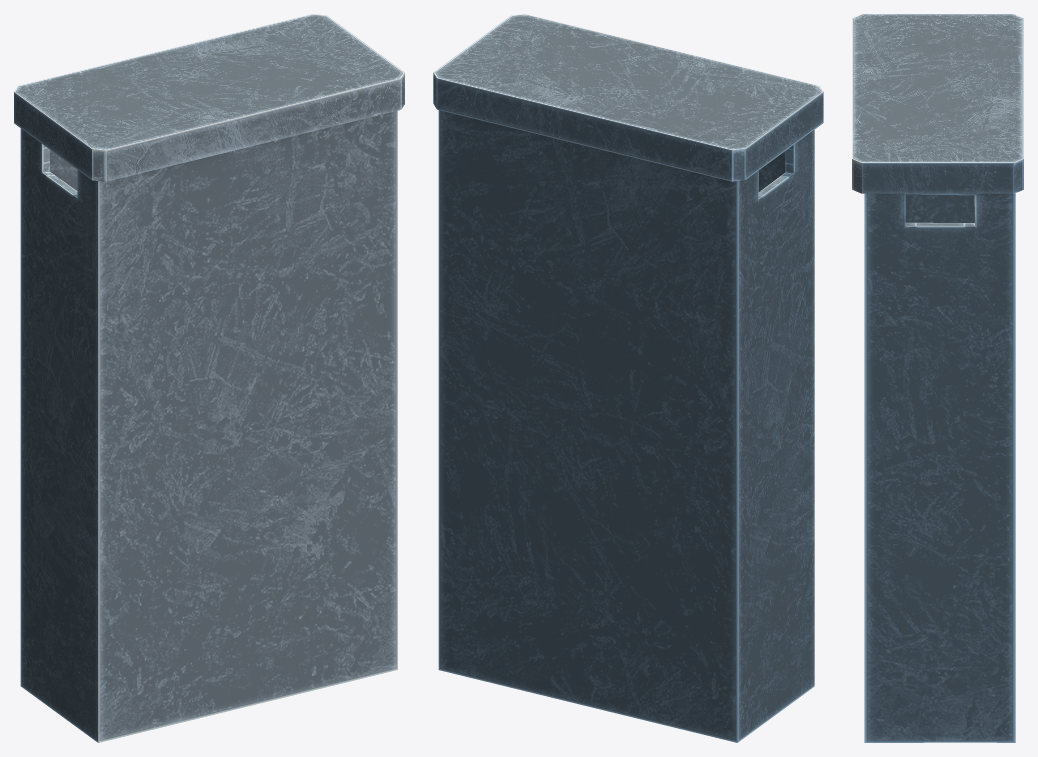
The model's file is Laundry_hamper_color_01_atate.fbx.
3 views of the same model, side by side, from view 1: azimuth 30°, elevation 25°; view 2: azimuth 150°, elevation 25°; view 3: azimuth 270°, elevation 25° (orthographic). The views are drawn at different scales.
Visible parts, largest first — view 1: polySurface3, polySurface4; view 2: polySurface3, polySurface4; view 3: polySurface3, polySurface4.
Part boxes in pixels (bbox=[...]): polySurface3: bbox=[20, 110, 397, 742]; polySurface4: bbox=[14, 14, 404, 181]; polySurface3: bbox=[438, 110, 814, 742]; polySurface4: bbox=[433, 14, 823, 181]; polySurface3: bbox=[864, 193, 1015, 742]; polySurface4: bbox=[852, 14, 1023, 193].
Size of the model in its own units: 0.0044 by 0.00802 by 0.00214.
Materials: 1 (1 with a texture image).
